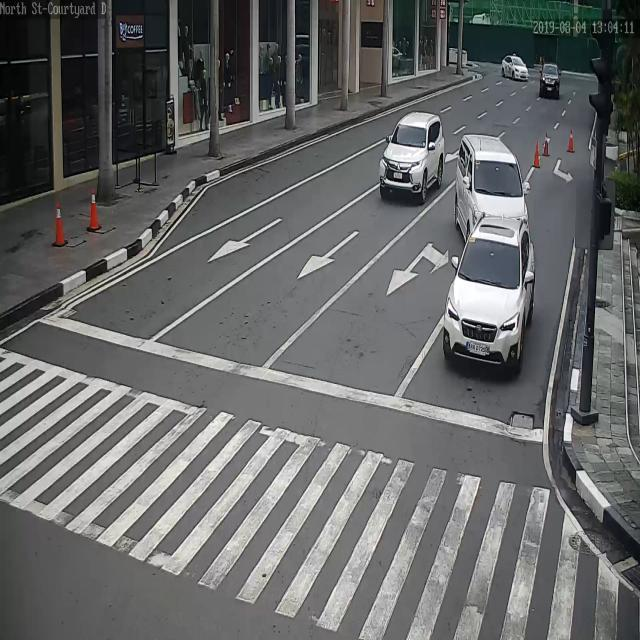car: (444, 206, 531, 375), (380, 110, 447, 202), (539, 62, 561, 101), (502, 54, 532, 82)
van: (455, 137, 531, 247)
